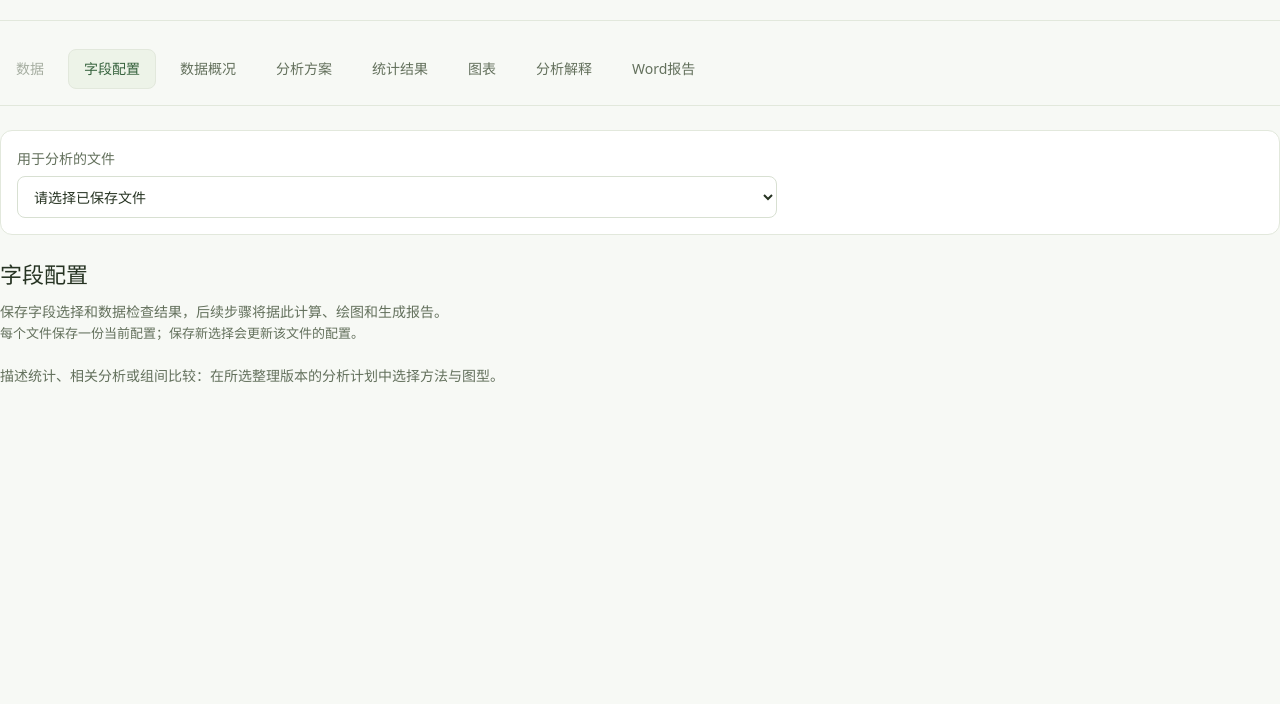
Test: profile failure can be retried
Select "研究.xlsx · 2026/9/29 01:00:00" in the dropdown labelled "用于分析的文件" at (397, 197), box x1=17 y1=176 x2=777 y2=218
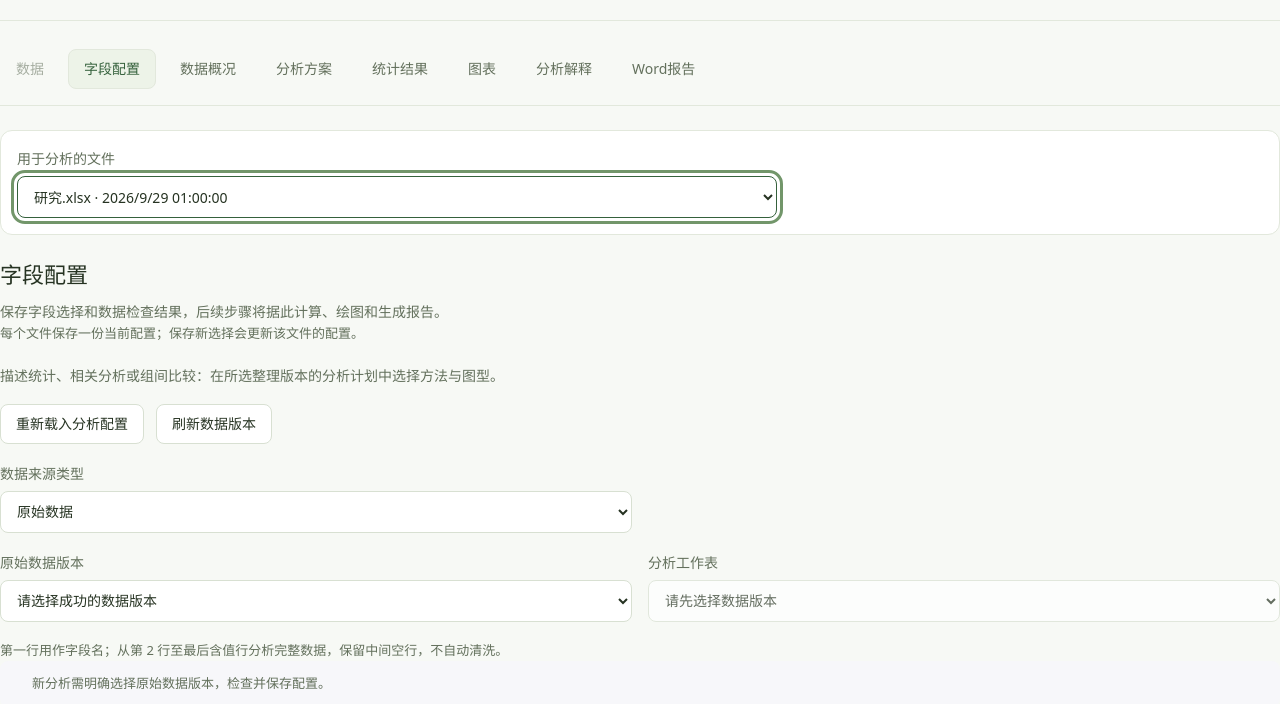
Select "原始数据版本 v1" in the dropdown labelled "原始数据版本" at (316, 601), box x1=0 y1=580 x2=632 y2=622
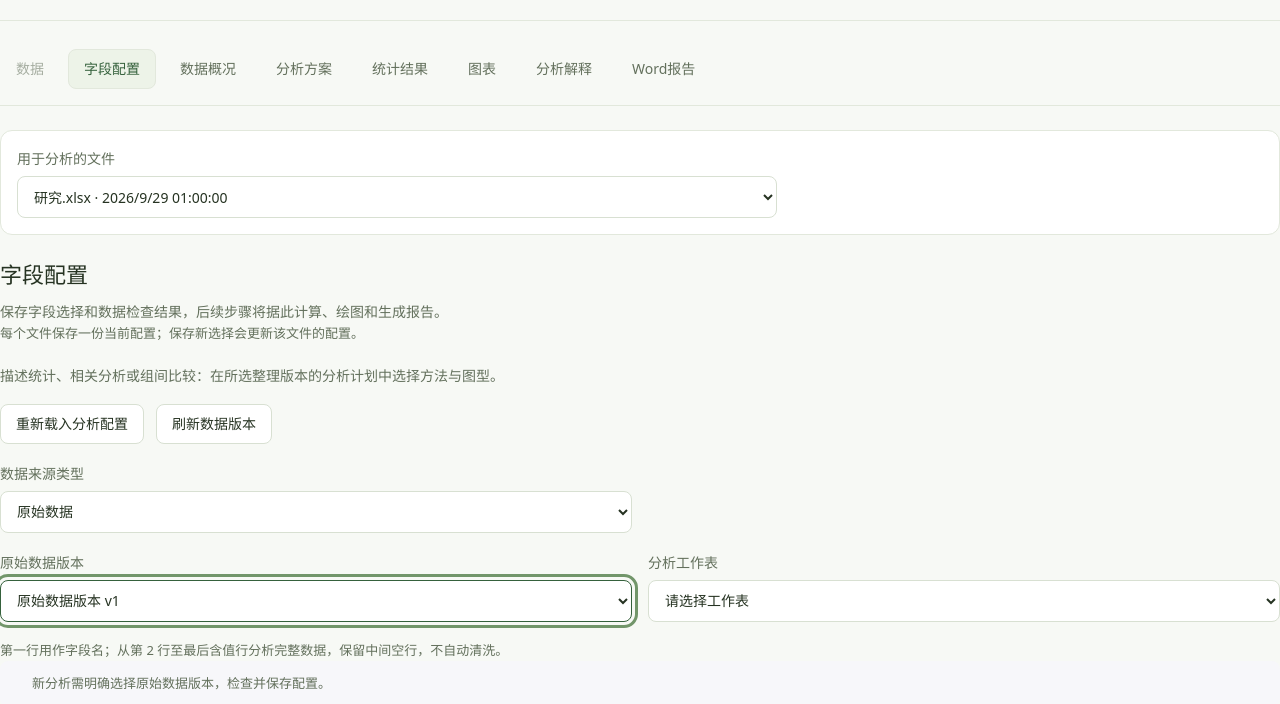
Select "数据 & 表" in the dropdown labelled "分析工作表" at (964, 601), box x1=648 y1=580 x2=1279 y2=622
(page scrolled)
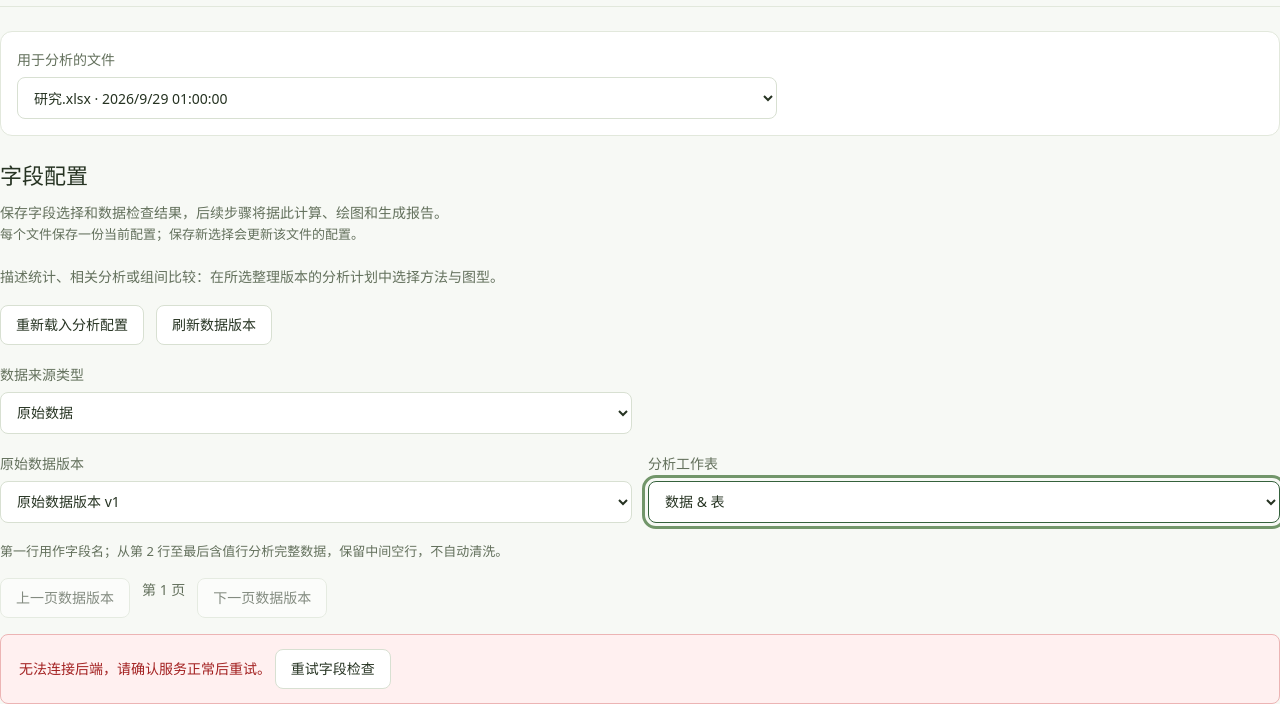
expect the message "无法连接后端，请确认服务正常后重试。 重试字段检查" is shown: met, box x1=0 y1=634 x2=1279 y2=703
Click the button "重试字段检查" at (333, 669), box x1=275 y1=649 x2=391 y2=689
(page scrolled)
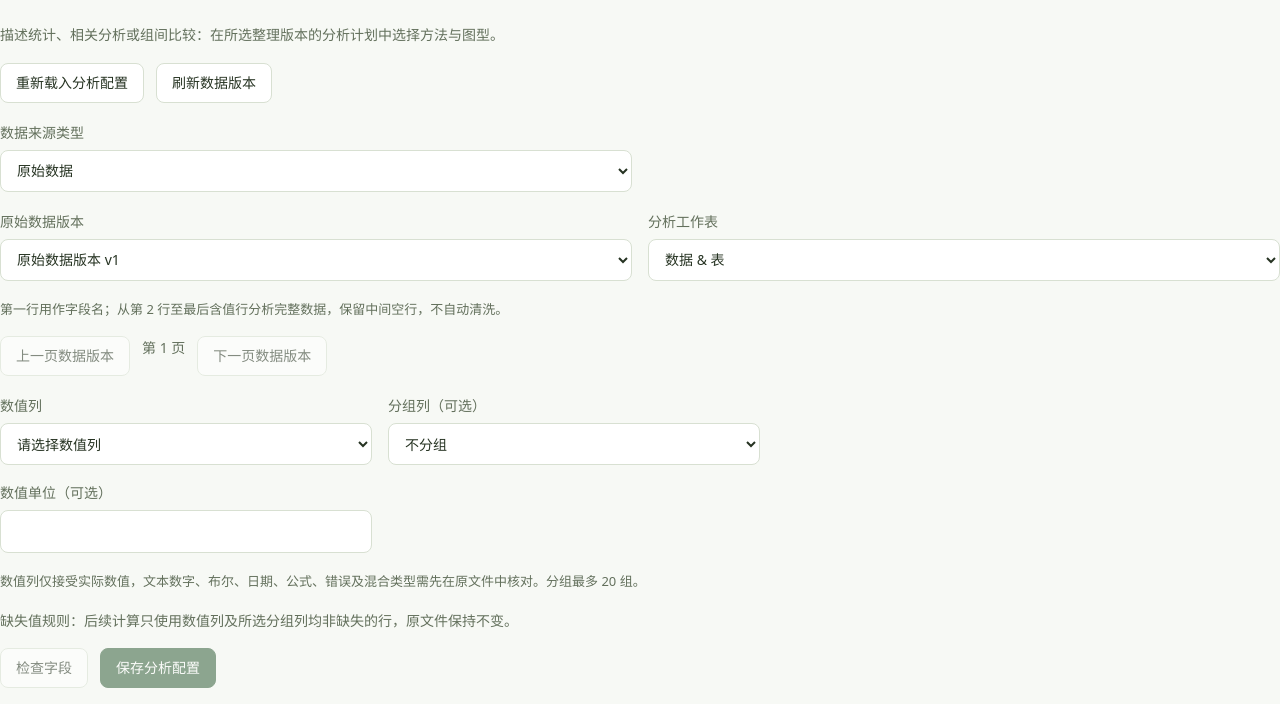
expect the dropdown labelled "数值列" is shown: met, box x1=0 y1=423 x2=372 y2=465
